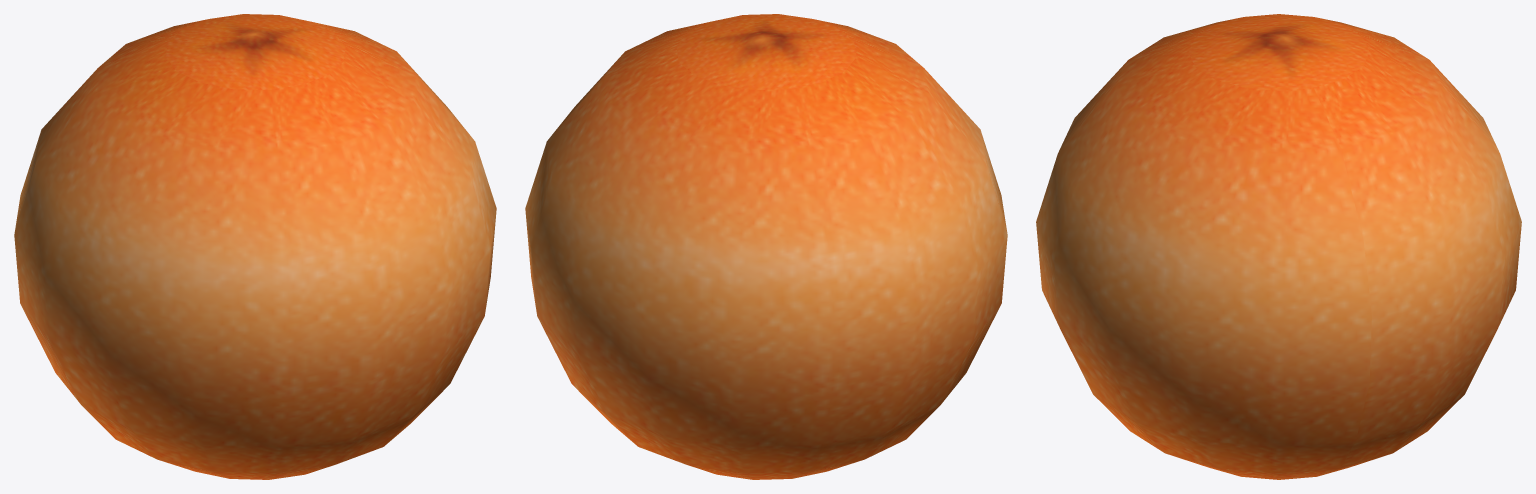
The model's file is 002-Grapefruit_Whole.FBX.
3 renders of one model, left to right at view 1: azimuth 30°, elevation 25°; view 2: azimuth 150°, elevation 25°; view 3: azimuth 270°, elevation 25°, orthographic.
Visible parts, largest first — view 1: 002-Grapefruit_Whole; view 2: 002-Grapefruit_Whole; view 3: 002-Grapefruit_Whole.
Part boxes in pixels (left/top/right/bottom): 002-Grapefruit_Whole: left=14, top=14, right=496, bottom=479; 002-Grapefruit_Whole: left=525, top=14, right=1007, bottom=479; 002-Grapefruit_Whole: left=1036, top=14, right=1521, bottom=479.
Size of the model in its own units: 13.61 by 13.01 by 13.61.
